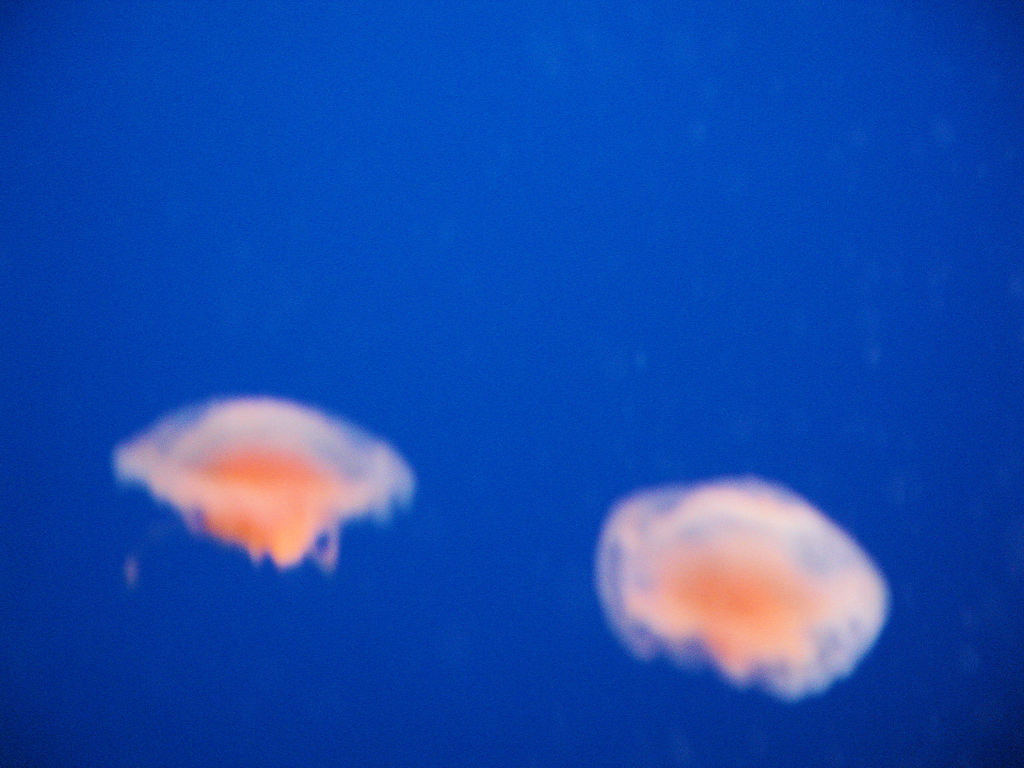Jellyfish: (588, 473, 885, 711), (107, 392, 434, 600)
